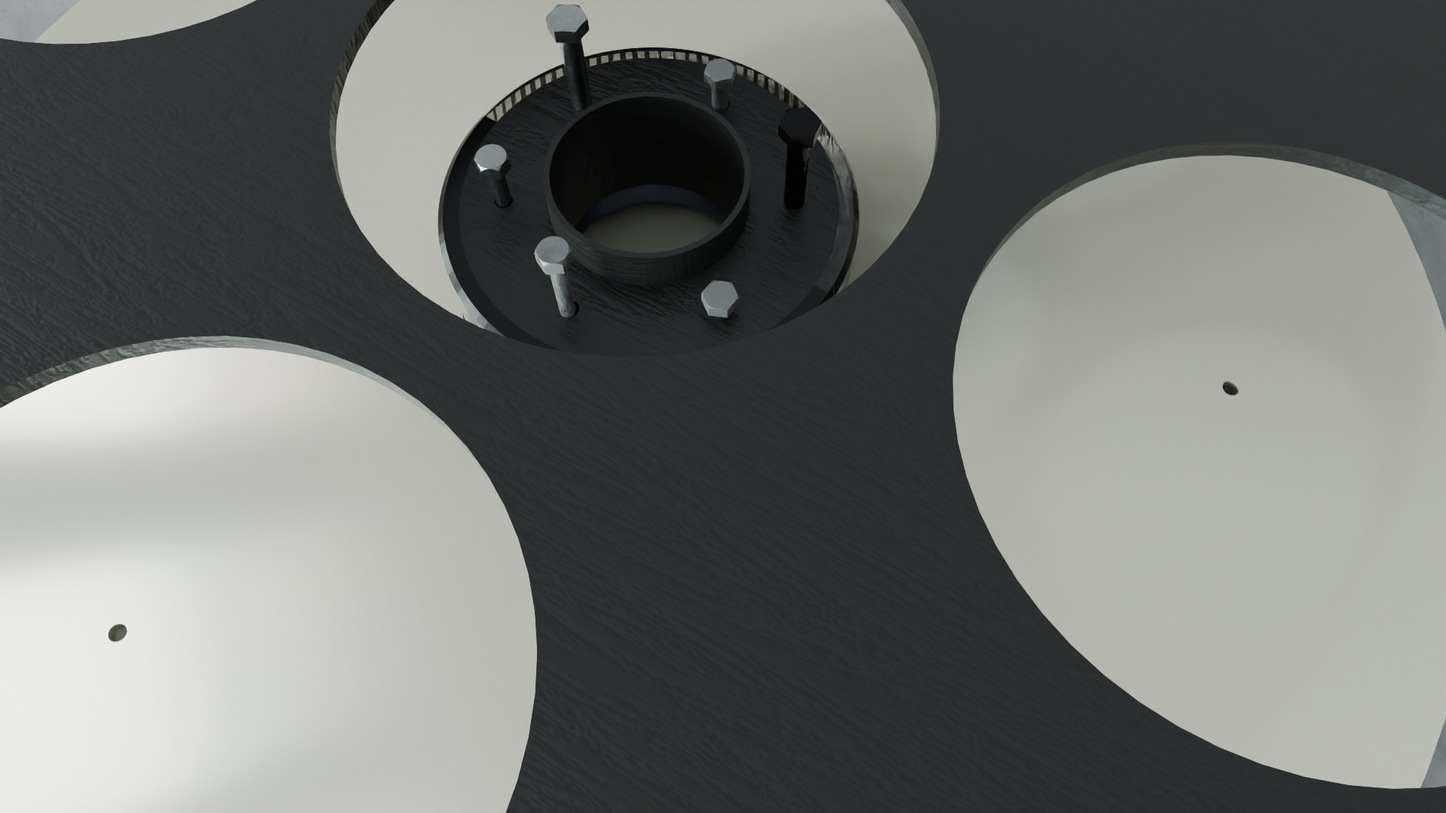bolt: (779, 108, 822, 139), (701, 281, 739, 311), (535, 236, 572, 266), (546, 5, 587, 32), (474, 144, 509, 171), (704, 58, 735, 82)
